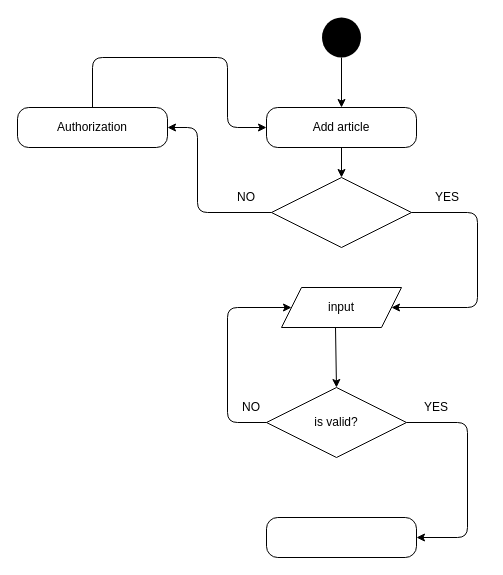
This 503x575 diagram has some shape labels left out. Each missing label, with the centre of its shape:
"Authorized?" belongs at point (341, 212).
"Save article" belongs at point (341, 537).
